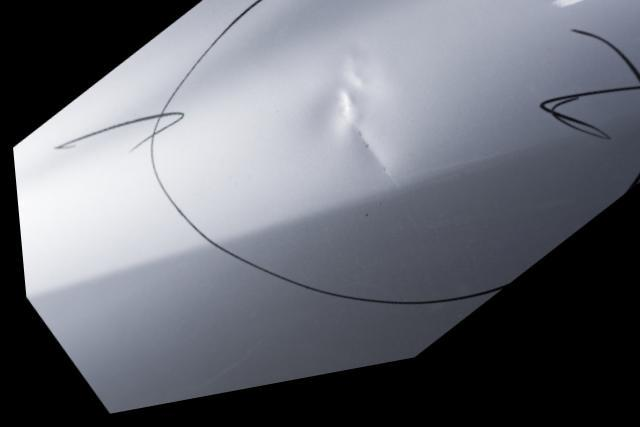dent: (301, 56, 397, 206)
